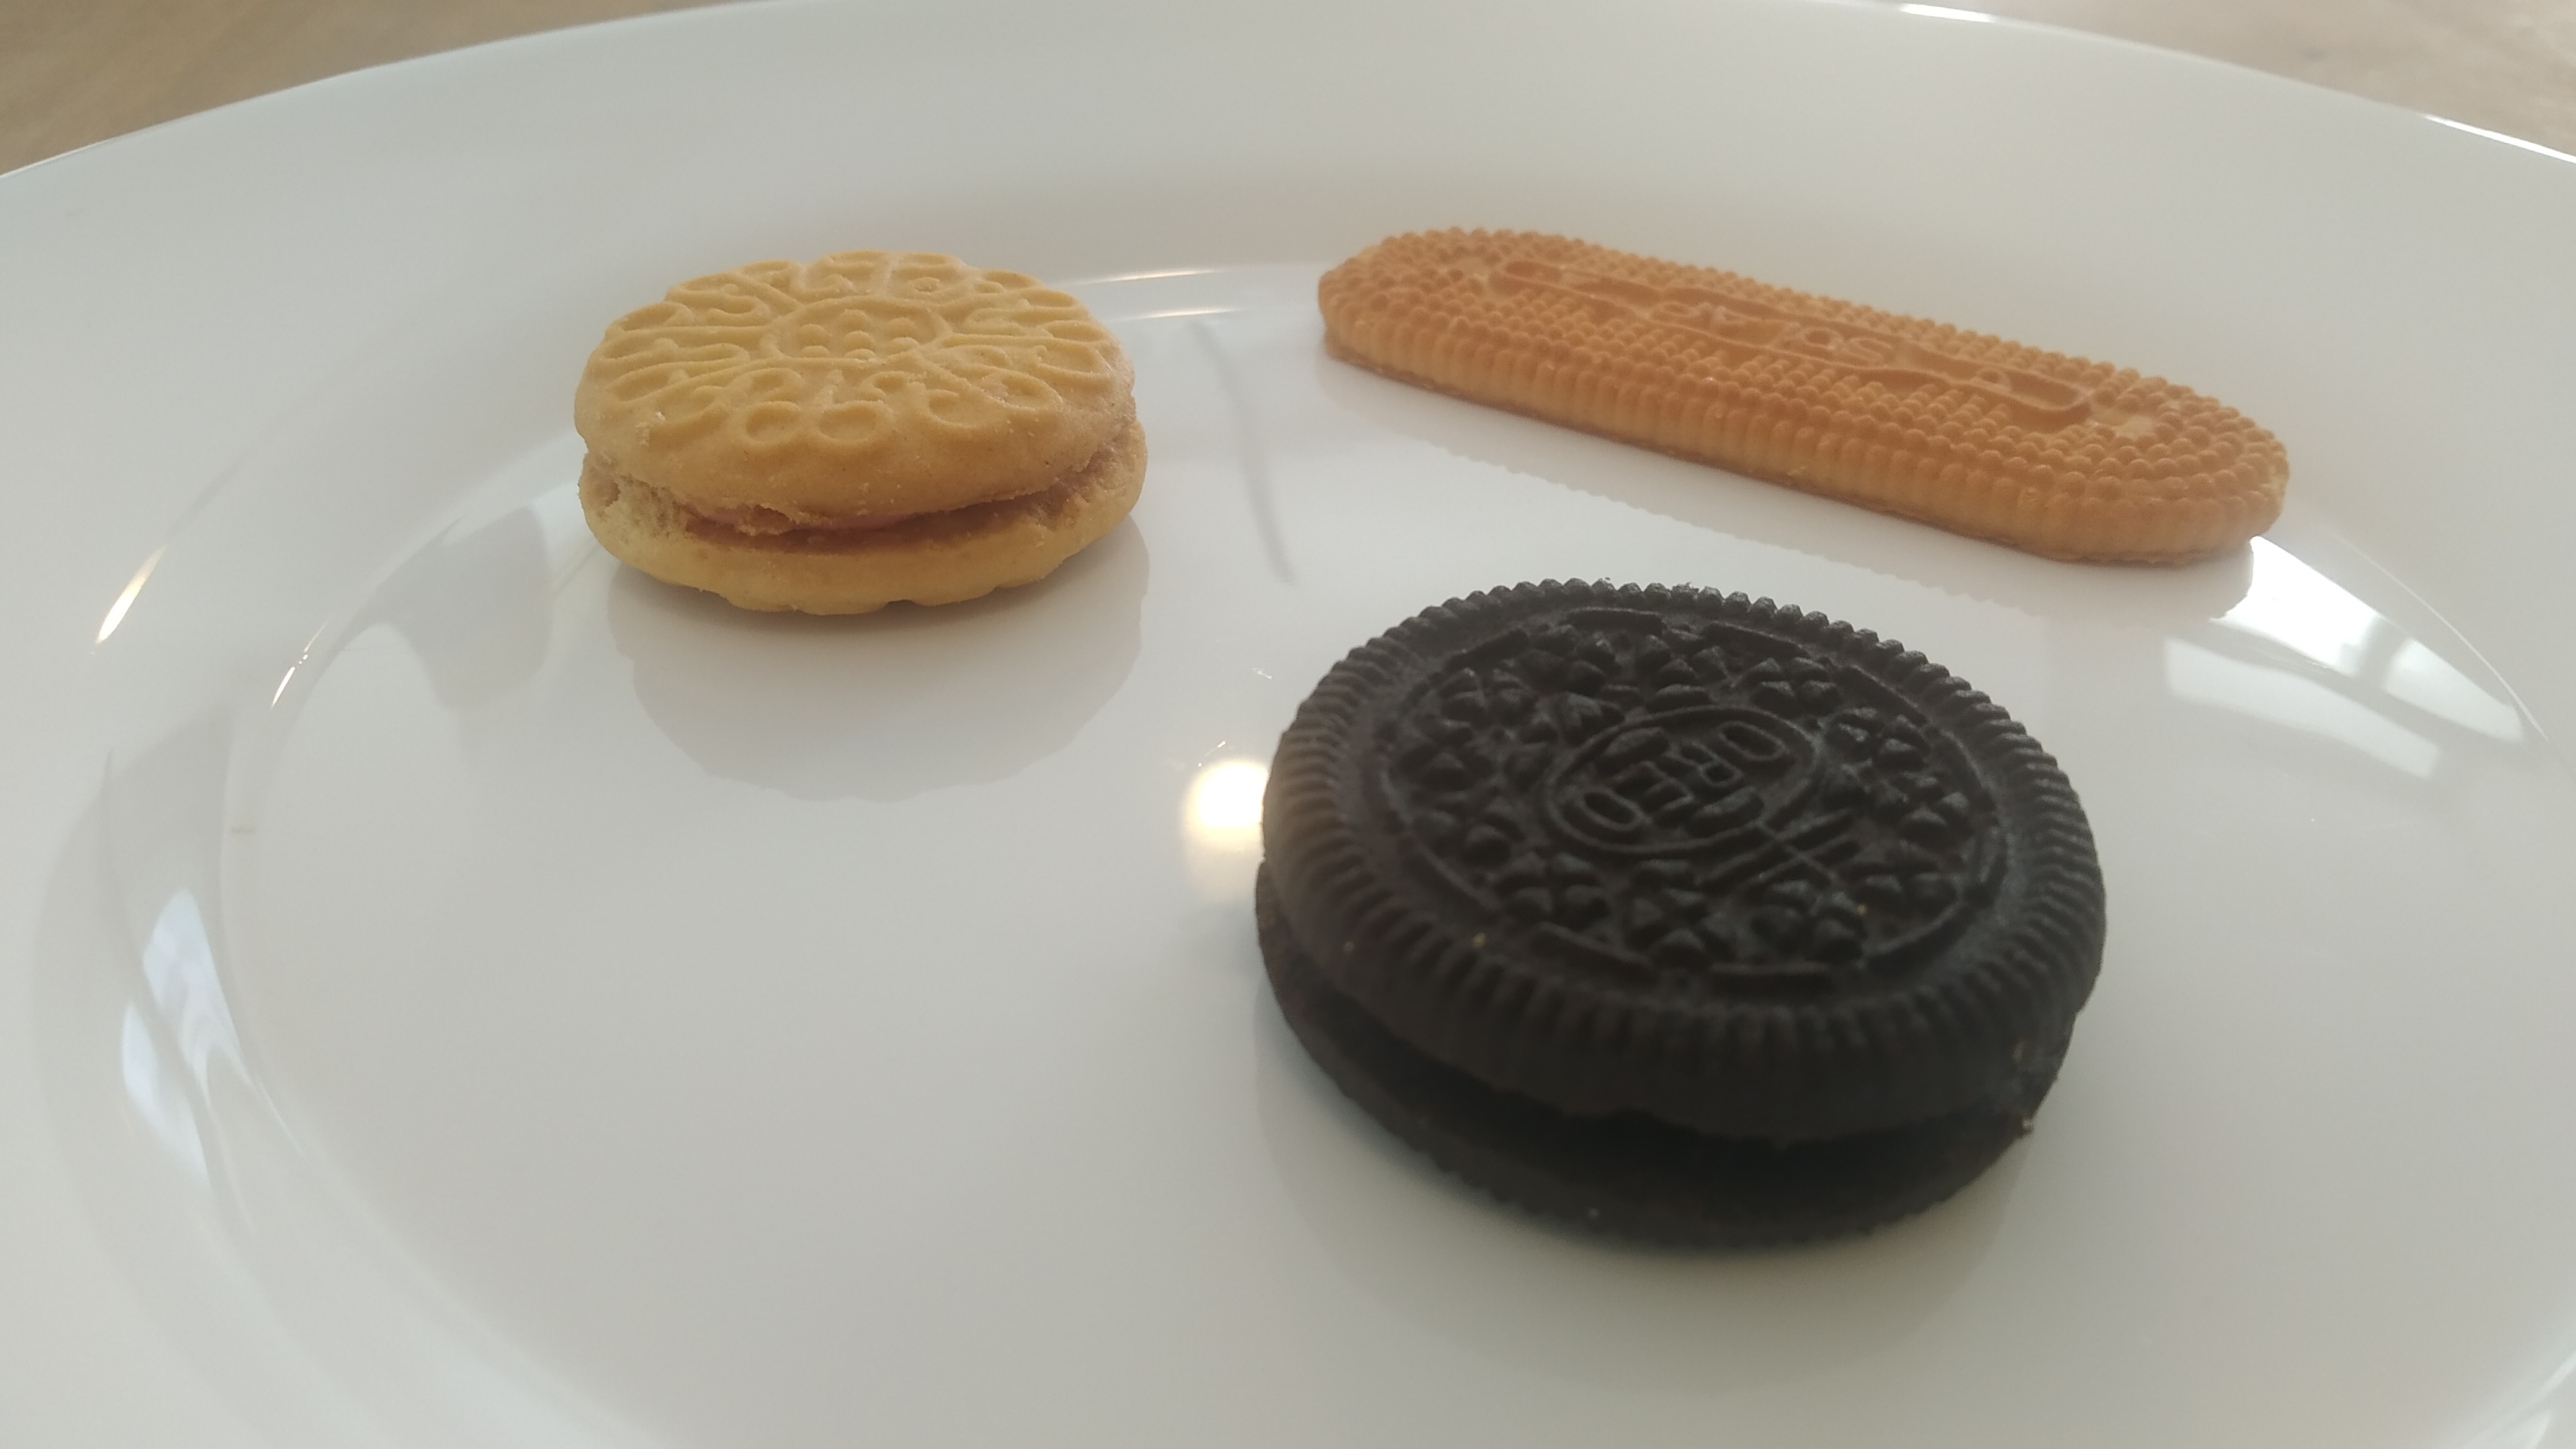lulu: (571, 248, 1148, 617)
oreo: (1258, 579, 2109, 1251)
solar: (1318, 226, 2293, 568)
